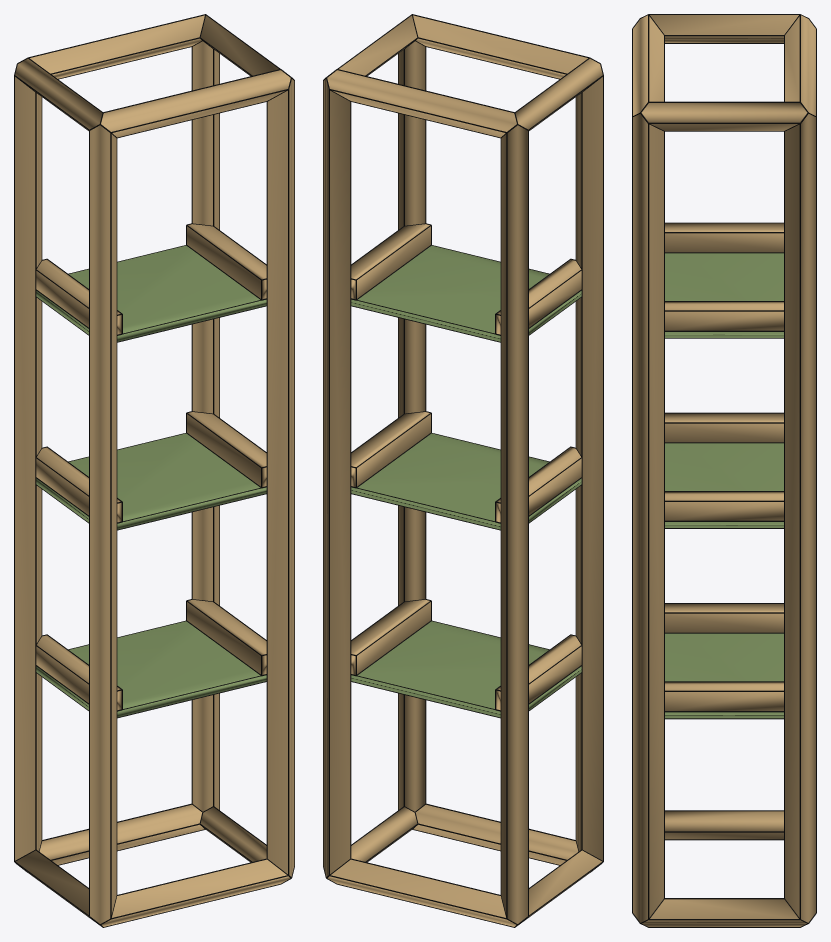
Rendered from etagere-moyenne.glb.
3 renders of one model, left to right at view 1: azimuth 30°, elevation 25°; view 2: azimuth 150°, elevation 25°; view 3: azimuth 270°, elevation 25°, orthographic.
Visible parts, largest first — view 1: arete-Z0, arete-Z1, arete-Z2, arete-Z3, tablette-plate-mod-0, tablette-plate-mod-1, tablette-plate-mod-2, arete-X2, arete-X0, arete-X3, arete-wire-Z0, arete-wire-Z1 (+20 smaller); view 2: arete-Z2, arete-Z3, arete-Z0, arete-Z1, tablette-plate-mod-0, tablette-plate-mod-1, tablette-plate-mod-2, arete-X3, arete-X1, arete-X2, arete-wire-Z3, arete-wire-Z2 (+20 smaller); view 3: arete-Z1, arete-Z3, tablette-plate-mod-0, tablette-plate-mod-1, tablette-plate-mod-2, arete-Y3, arete-Y1, tablette-traverse-left-mod-1, arete-Y2, arete-Y0, tablette-traverse-left-mod-0, tablette-traverse-left-mod-2 (+18 smaller).
Part boxes in pixels (<box>): arete-Z0: <box>90,125,116,923</box>; arete-Z1: <box>267,79,294,876</box>; arete-Z2: <box>15,77,41,860</box>; arete-Z3: <box>192,41,219,811</box>; tablette-plate-mod-0: <box>36,621,266,717</box>; tablette-plate-mod-1: <box>36,433,266,529</box>; tablette-plate-mod-2: <box>36,245,266,341</box>; arete-X2: <box>101,70,290,137</box>; arete-X0: <box>101,859,290,926</box>; arete-X3: <box>30,15,204,78</box>; arete-wire-Z0: <box>89,124,117,918</box>; arete-wire-Z1: <box>266,77,294,875</box>; arete-Z2: <box>501,125,527,923</box>; arete-Z3: <box>323,79,350,876</box>; arete-Z0: <box>576,77,602,860</box>; arete-Z1: <box>398,41,425,811</box>; tablette-plate-mod-0: <box>351,621,581,717</box>; tablette-plate-mod-1: <box>351,433,581,529</box>; tablette-plate-mod-2: <box>351,245,581,341</box>; arete-X3: <box>327,70,516,137</box>; arete-X1: <box>327,859,516,926</box>; arete-X2: <box>413,15,587,78</box>; arete-wire-Z3: <box>323,80,351,875</box>; arete-wire-Z2: <box>500,124,528,918</box>; arete-Z1: <box>633,114,663,922</box>; arete-Z3: <box>785,114,815,922</box>; tablette-plate-mod-0: <box>665,633,783,718</box>; tablette-plate-mod-1: <box>665,443,783,527</box>; tablette-plate-mod-2: <box>665,253,783,337</box>; arete-Y3: <box>641,103,807,130</box>; arete-Y1: <box>642,899,806,926</box>; tablette-traverse-left-mod-1: <box>665,413,783,442</box>; arete-Y2: <box>650,15,798,42</box>; arete-Y0: <box>665,811,783,839</box>; tablette-traverse-left-mod-0: <box>665,604,783,632</box>; tablette-traverse-left-mod-2: <box>665,223,783,252</box>.
Size of the model in its own units: 0.4309 by 1.63 by 0.3309.
